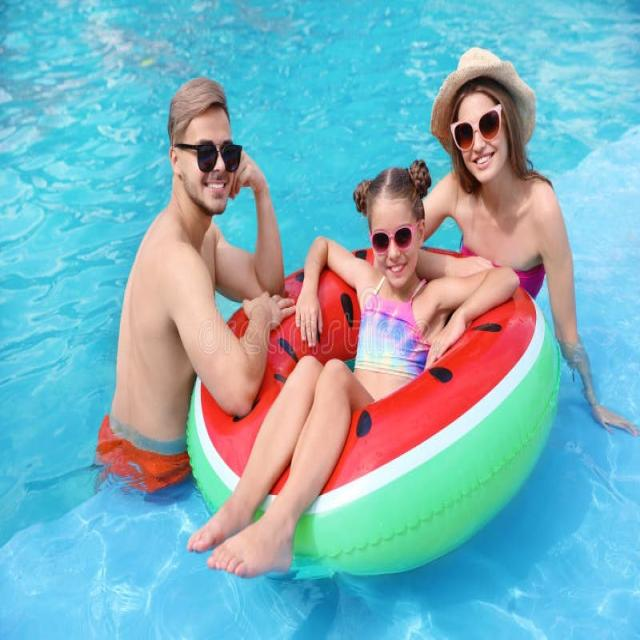adult: (418, 49, 640, 439), (94, 78, 295, 502)
child: (184, 160, 522, 578)
